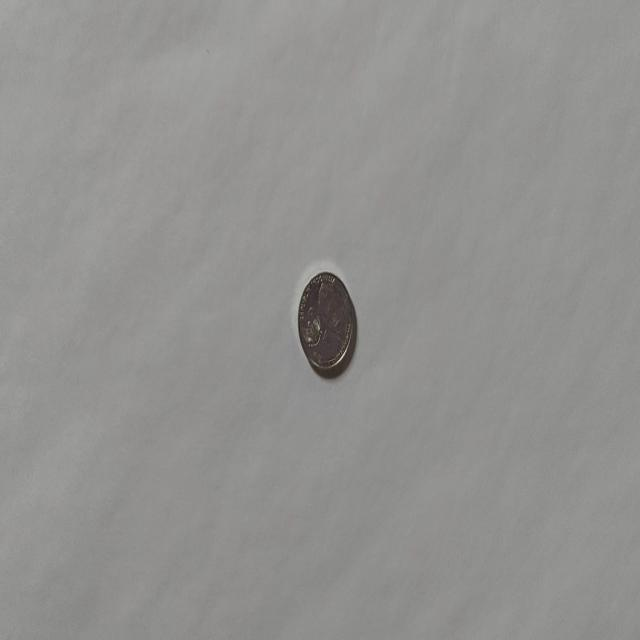dua ratus rupiah: (296, 269, 354, 376)
